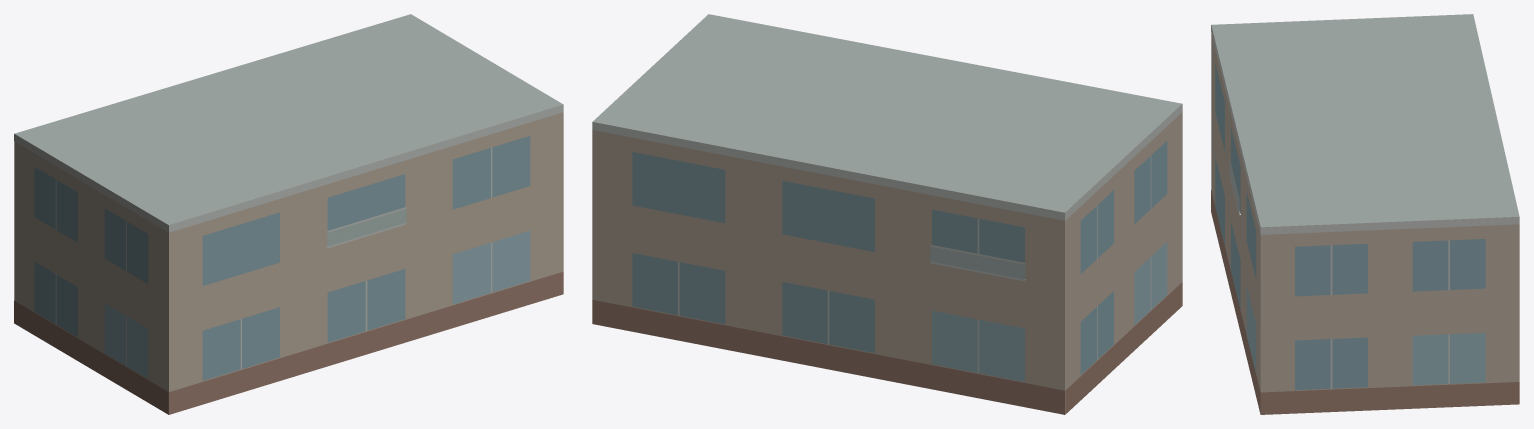
File: survey-upis-33014698.glb
3 renders of one model, left to right at view 1: azimuth 30°, elevation 25°; view 2: azimuth 150°, elevation 25°; view 3: azimuth 270°, elevation 25°, orthographic. The views are drawn at different scales.
Visible parts, largest first — view 1: survey-upis-33014698.tmp; view 2: survey-upis-33014698.tmp; view 3: survey-upis-33014698.tmp.
Part boxes in pixels (x1,y1,x2,y2): survey-upis-33014698.tmp: (14, 14, 563, 414); survey-upis-33014698.tmp: (592, 14, 1182, 414); survey-upis-33014698.tmp: (1211, 14, 1519, 414).
Size of the model in its own units: 14.89 by 6.1 by 9.1.
